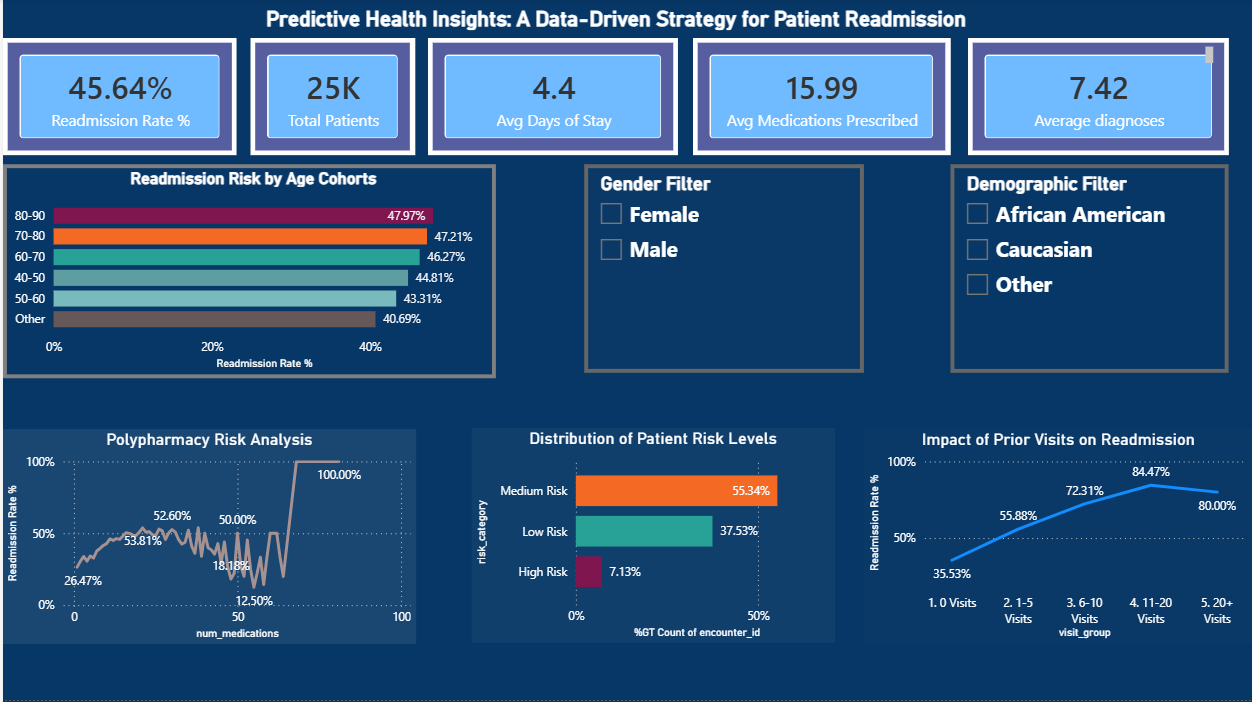

This screenshot's page, from the dashboard's own definition file:
{"tool":"powerbi","page":{"name":"Executive Summary","canvas":[1280,720],"ordinal":0},"visuals":[{"type":"clusteredBarChart","title":"Readmission Risk by Age Cohorts","fields":{"Y":["cleaned_hospital_data.Readmission Rate %"],"Category":["cleaned_hospital_data.age_group"]},"box":[0,170.4,505,218.9],"z":0},{"type":"lineChart","title":"Polypharmacy Risk Analysis","fields":{"Y":["cleaned_hospital_data.Readmission Rate %"],"Category":["cleaned_hospital_data.num_medications"]},"box":[0,441.6,422.9,220.2],"z":1000},{"type":"lineChart","title":"Impact of Prior Visits on Readmission","fields":{"Y":["cleaned_hospital_data.Readmission Rate %"],"Category":["cleaned_hospital_data.visit_group"]},"box":[882.3,441.9,397.9,219.6],"z":2000},{"type":"barChart","title":"Distribution of Patient Risk Levels","fields":{"Category":["cleaned_hospital_data.risk_category"],"Y":["CountNonNull(cleaned_hospital_data.encounter_id)"]},"box":[480.2,440.4,371.9,220.2],"z":3000},{"type":"cardVisual","fields":{"Data":["cleaned_hospital_data.Readmission Rate %"]},"box":[0,41,239.4,120.3],"z":4000},{"type":"cardVisual","fields":{"Data":["CountNonNull(cleaned_hospital_data.encounter_id)"]},"box":[253.5,41,169,120.3],"z":5000},{"type":"cardVisual","fields":{"Data":["Avg(cleaned_hospital_data.time_in_hospital)"]},"box":[435.3,41,256.1,120.3],"z":6000},{"type":"cardVisual","fields":{"Data":["Avg(cleaned_hospital_data.num_medications)"]},"box":[706.7,41,263.7,120.3],"z":7000},{"type":"cardVisual","fields":{"Data":["Avg(cleaned_hospital_data.number_diagnoses)"]},"box":[988.4,41,267.6,120.3],"z":8000},{"type":"slicer","fields":{"Values":["cleaned_hospital_data.gender"]},"box":[595.9,170.4,286.1,214],"z":9000},{"type":"slicer","fields":{"Values":["cleaned_hospital_data.race"]},"box":[970.3,170.4,284.9,214],"z":10000},{"type":"textbox","title":"Predictive Health Insights: A Data-Driven Strategy for Patient Readmission","box":[11.5,9,1232.9,62.7],"z":10001}]}

Visuals, with their boxes in screenshot pixels (x1, y1, x2, y2), scaled from the page's 1280x720 canvas onto the 1252x702 screenshot:
"Readmission Risk by Age Cohorts" clusteredBarChart: x1=0, y1=166, x2=494, y2=380
"Polypharmacy Risk Analysis" lineChart: x1=0, y1=431, x2=414, y2=645
"Impact of Prior Visits on Readmission" lineChart: x1=863, y1=431, x2=1251, y2=645
"Distribution of Patient Risk Levels" barChart: x1=470, y1=429, x2=833, y2=644
cardVisual - cleaned_hospital_data.Readmission Rate %: x1=0, y1=40, x2=234, y2=157
cardVisual - CountNonNull(cleaned_hospital_data.encounter_id): x1=248, y1=40, x2=413, y2=157
cardVisual - Avg(cleaned_hospital_data.time_in_hospital): x1=426, y1=40, x2=676, y2=157
cardVisual - Avg(cleaned_hospital_data.num_medications): x1=691, y1=40, x2=949, y2=157
cardVisual - Avg(cleaned_hospital_data.number_diagnoses): x1=967, y1=40, x2=1229, y2=157
slicer - cleaned_hospital_data.gender: x1=583, y1=166, x2=863, y2=375
slicer - cleaned_hospital_data.race: x1=949, y1=166, x2=1228, y2=375
"Predictive Health Insights: A Data-Driven Strategy for Patient Readmission" textbox: x1=11, y1=9, x2=1217, y2=70
